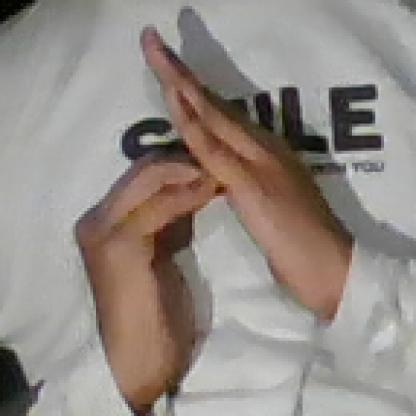Z: (70, 26, 306, 372)
